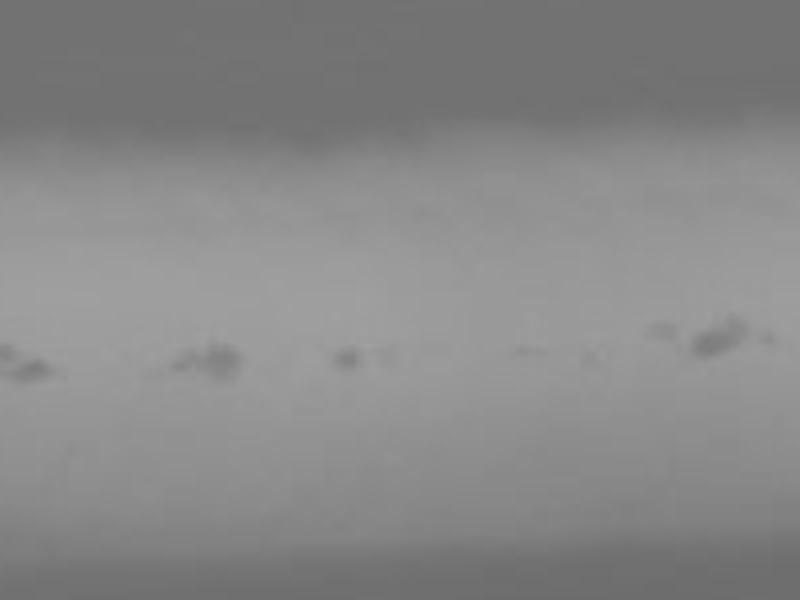defect: (196, 339, 239, 383), (689, 326, 733, 360), (370, 336, 399, 367), (646, 319, 677, 342), (330, 344, 358, 369), (14, 359, 46, 379), (169, 349, 194, 371), (726, 310, 748, 335), (757, 326, 777, 348), (1, 341, 17, 361)
